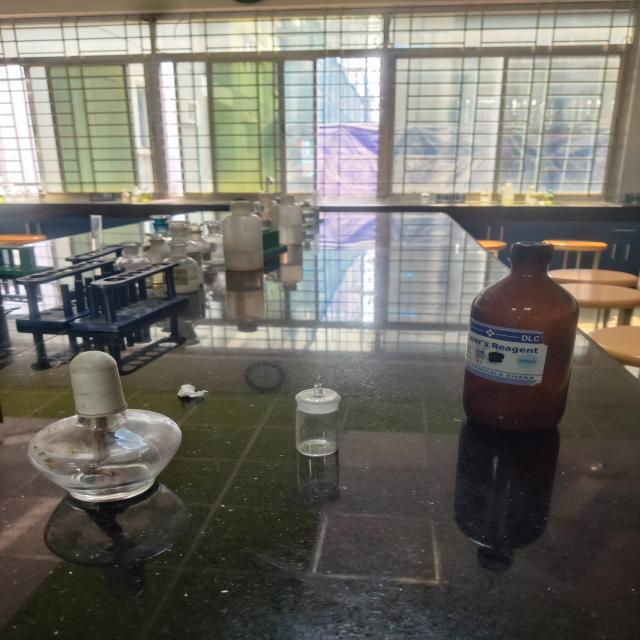Nessler_Reagent_Bottle: (427, 232, 604, 456)
Spirit_Lamp: (17, 338, 200, 527)
Weighing_Bottle: (267, 351, 374, 494)
